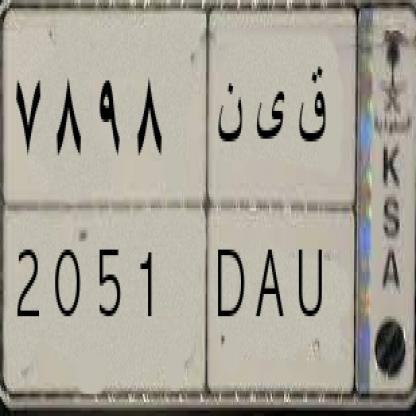english: (0, 186, 372, 404)
